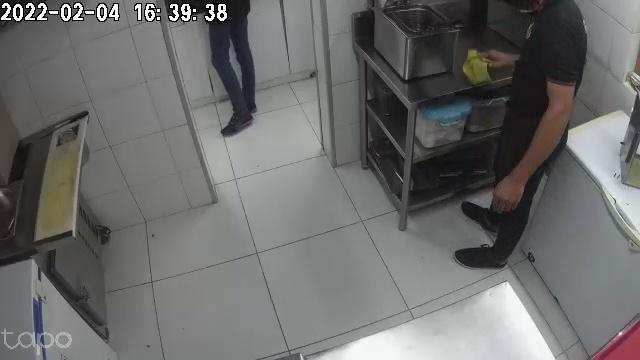no_gloves: (487, 167, 529, 216)
